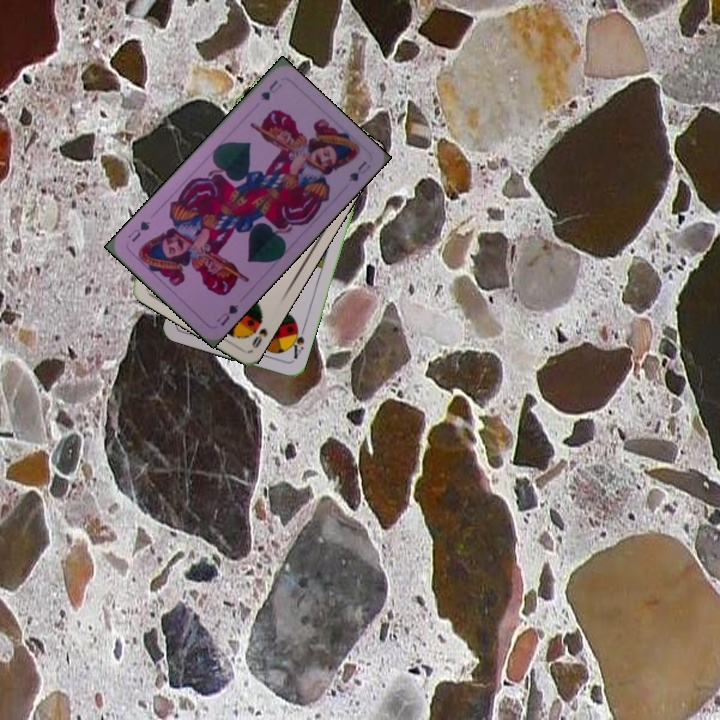GU: (212, 300, 242, 329), (256, 76, 285, 103)
SA: (286, 322, 307, 362)
SO: (246, 312, 270, 351)
